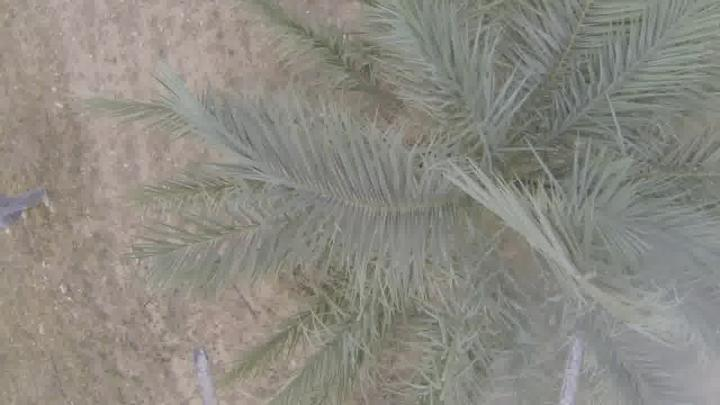Date-Palm-Crown: (318, 0, 710, 374)
